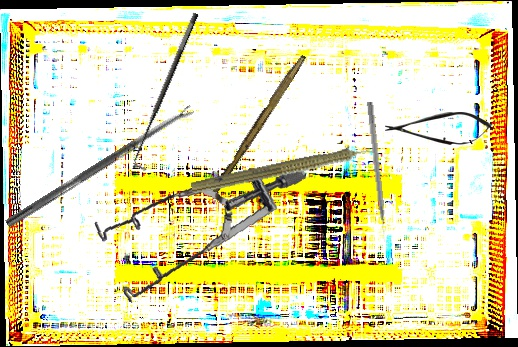Handpiece: (189, 137, 388, 202)
Hook Surgical: (126, 11, 211, 172)
Micro Scissor: (385, 112, 493, 145)
Pusher: (365, 101, 388, 243)
Scalpel Handle: (211, 51, 307, 196)
Speculum: (85, 145, 309, 322)
Surgical Spoon: (4, 104, 196, 230)
